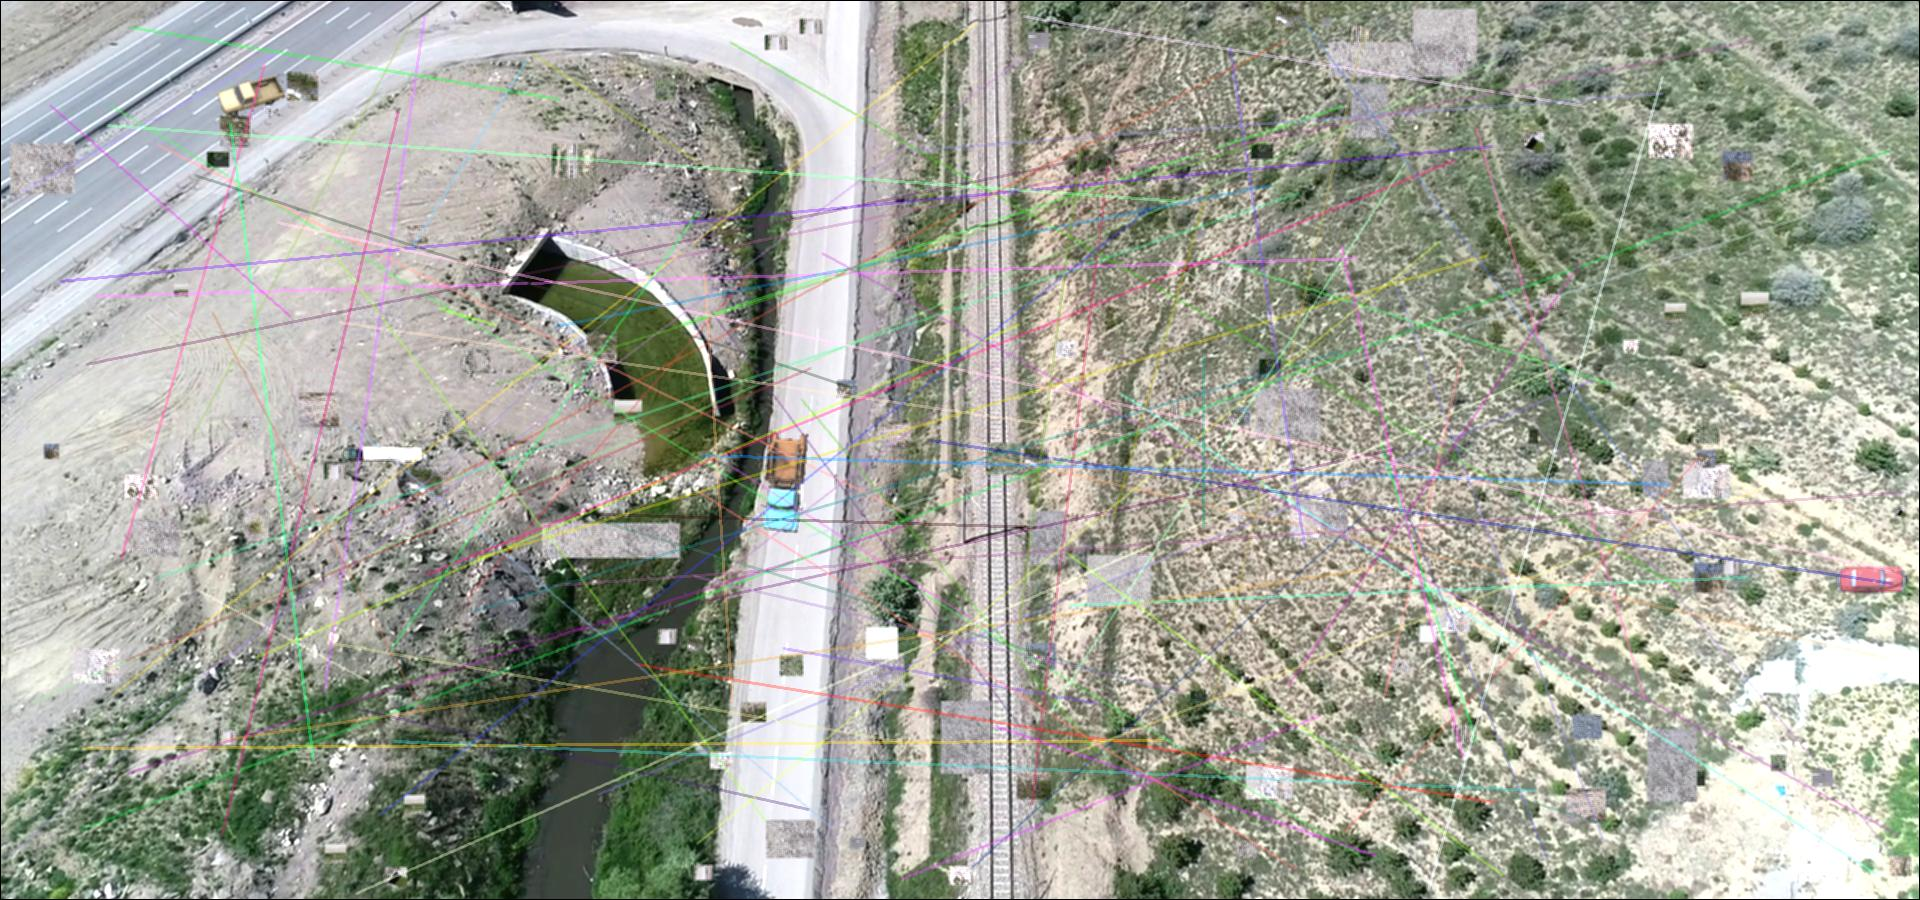arac: (760, 430, 811, 534), (217, 73, 285, 118), (1837, 564, 1908, 595), (342, 444, 424, 465)
